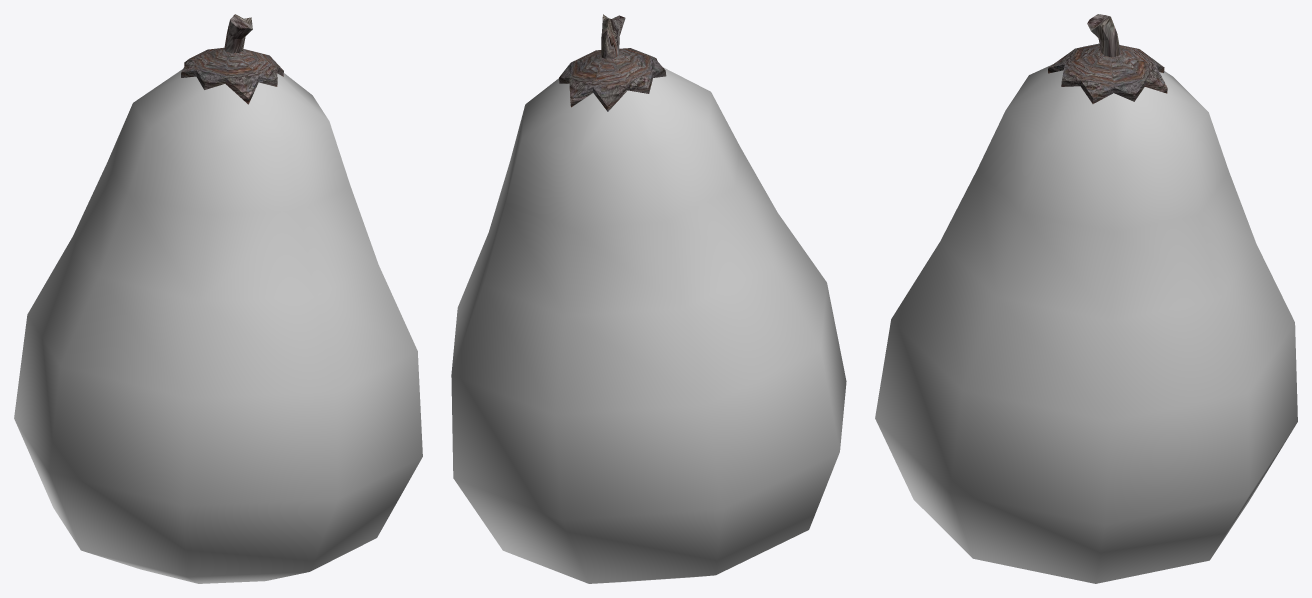
File: TopiFruit.FBX
The picture shows the model from 3 angles, left to right: view 1: azimuth 30°, elevation 25°; view 2: azimuth 150°, elevation 25°; view 3: azimuth 270°, elevation 25°; orthographic projection. The views are drawn at different scales.
Parts seen in each view (by area): view 1: Topi Fruit; view 2: Topi Fruit; view 3: Topi Fruit.
Boxes of the visible parts, x1,y1,x2,y2 form: Topi Fruit: (14, 14, 422, 583); Topi Fruit: (451, 14, 846, 583); Topi Fruit: (875, 14, 1297, 583).
Bounding box in the file's own units: 1.39 × 1.39 × 1.97.
